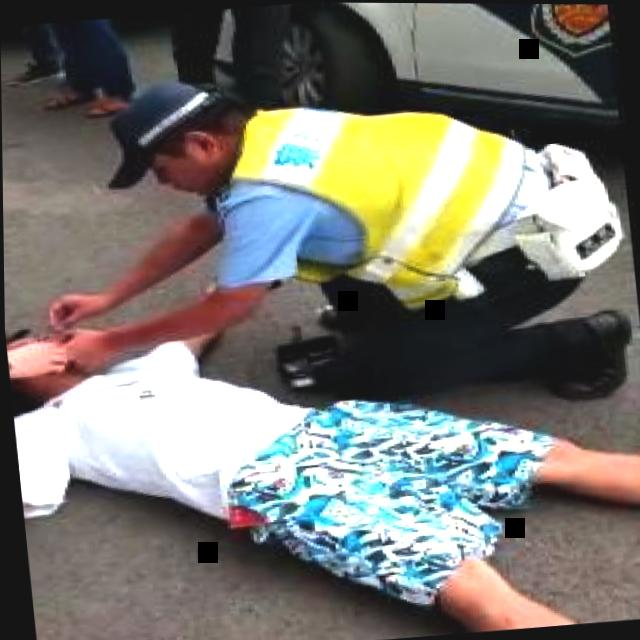Fall-Detected: (3, 242, 640, 640)
